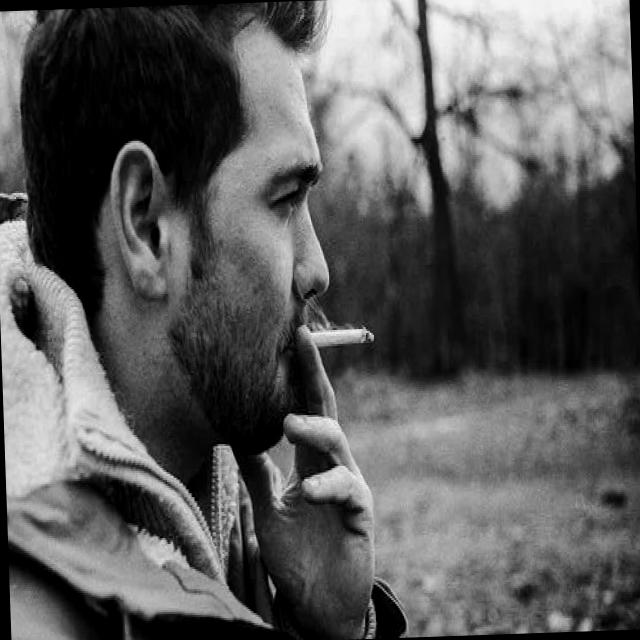cigarette: (299, 318, 378, 357)
